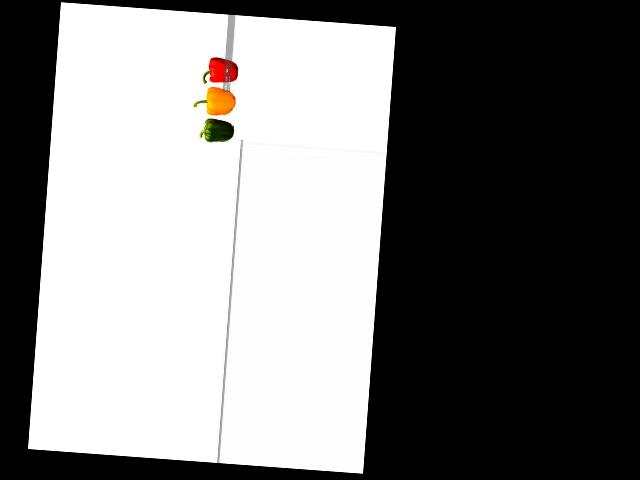bell_pepper: (194, 118, 236, 146)
